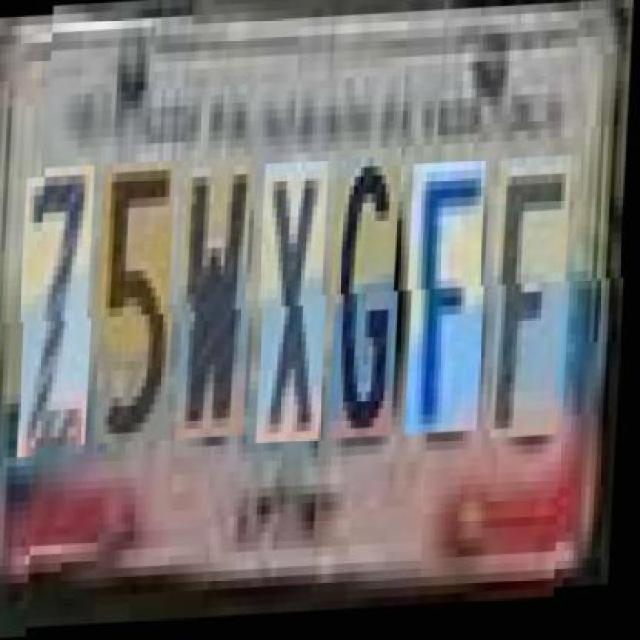5: (100, 162, 182, 446)
f: (494, 162, 578, 446), (410, 166, 492, 440)
g: (333, 161, 407, 444)
w: (179, 158, 259, 442)
x: (260, 165, 334, 446)
z: (22, 166, 102, 449)
